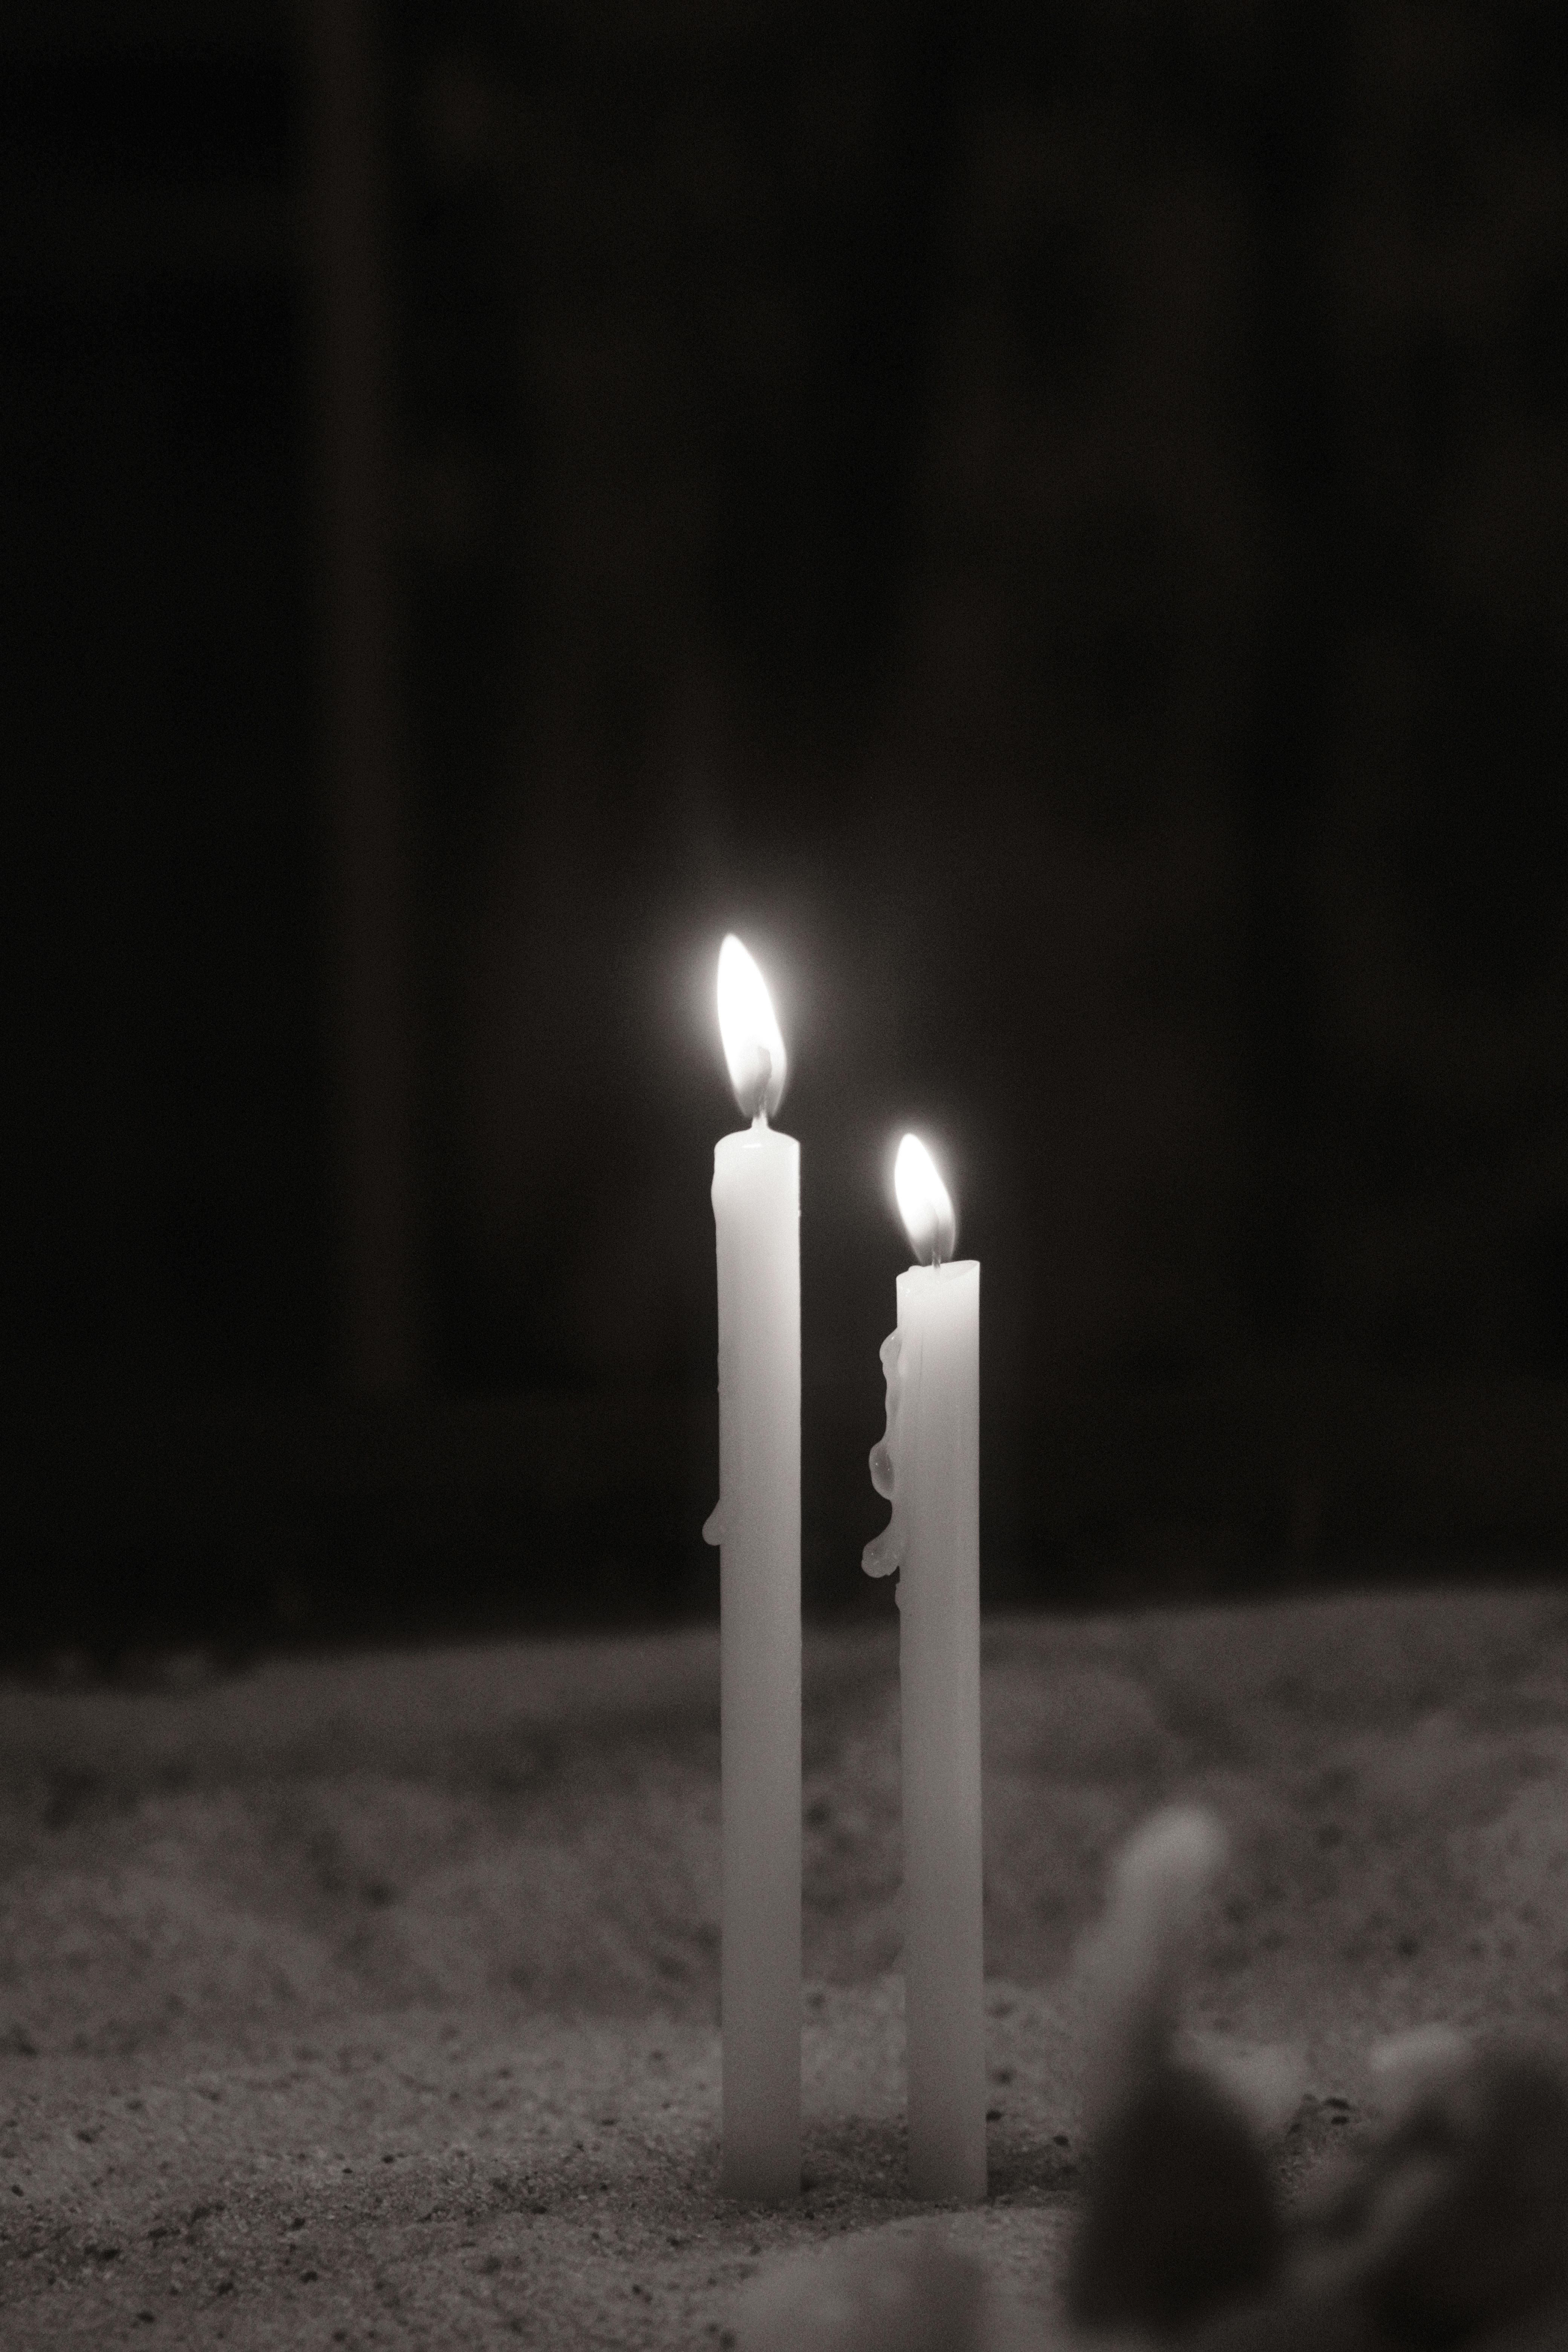Fire: (686, 901, 823, 1129), (865, 1113, 978, 1267)
